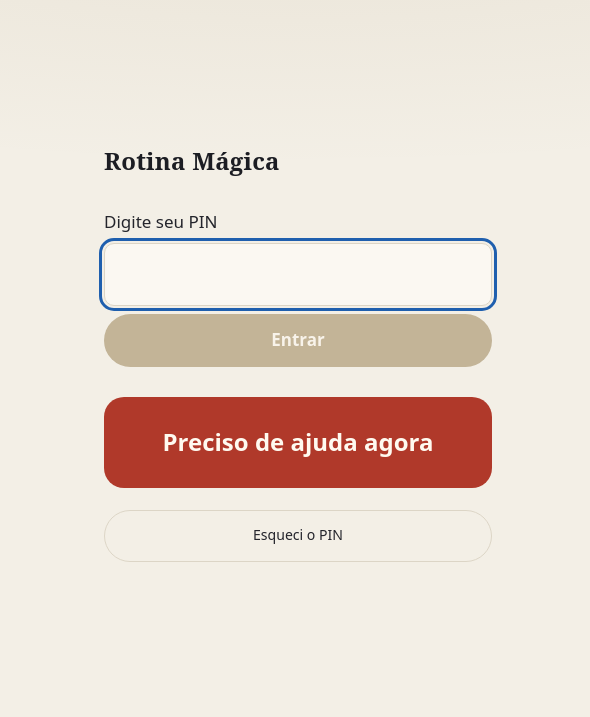
Test case: bloqueio com PIN › o SOS abre sem PIN, mas não mostra o que a pessoa escreveu
Click the button "Preciso de ajuda agora": (298, 442) [104,397,492,488]
(page scrolled)
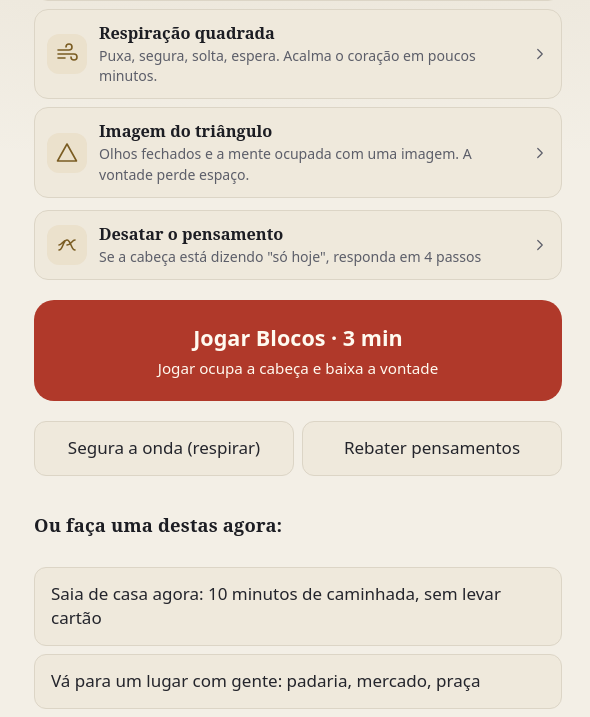
Check: the button "Jogar Blocos · 3 min Jogar ocupa a cabeça e baixa a vontade" is shown, box [34,300,562,401]
